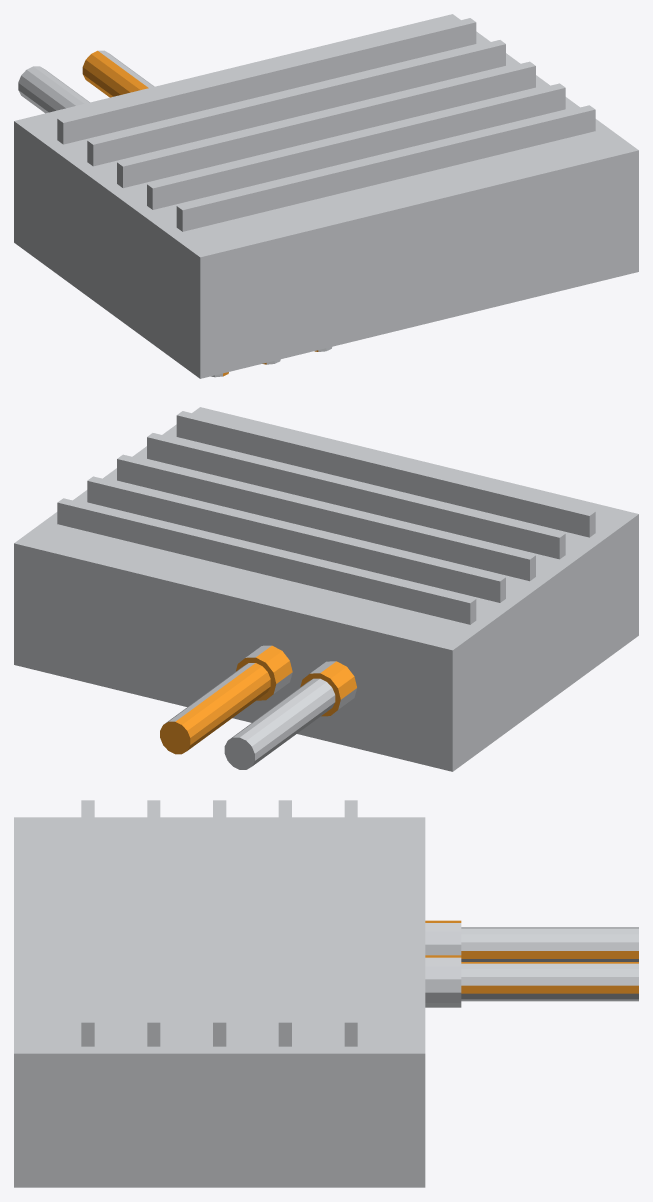
File: edu_inverter_sic.glb
The picture shows the model from 3 angles, top to bottom: view 1: azimuth 30°, elevation 25°; view 2: azimuth 150°, elevation 25°; view 3: azimuth 270°, elevation 25°; orthographic projection. The views are drawn at different scales.
Parts seen in each view (by area): view 1: EDU_Inverter_SiC; view 2: EDU_Inverter_SiC; view 3: EDU_Inverter_SiC.
Part boxes in pixels (<box>): EDU_Inverter_SiC: <box>14,14,638,378</box>; EDU_Inverter_SiC: <box>14,407,638,771</box>; EDU_Inverter_SiC: <box>14,800,638,1187</box>.
Bounding box in the file's own units: 0.34 × 0.1385 × 0.38.
